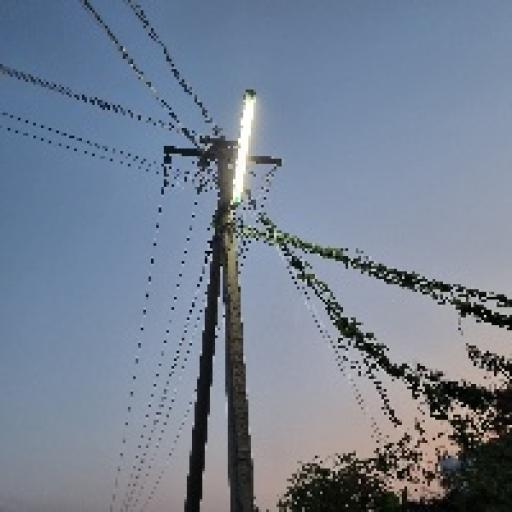Working: (206, 81, 272, 213)
